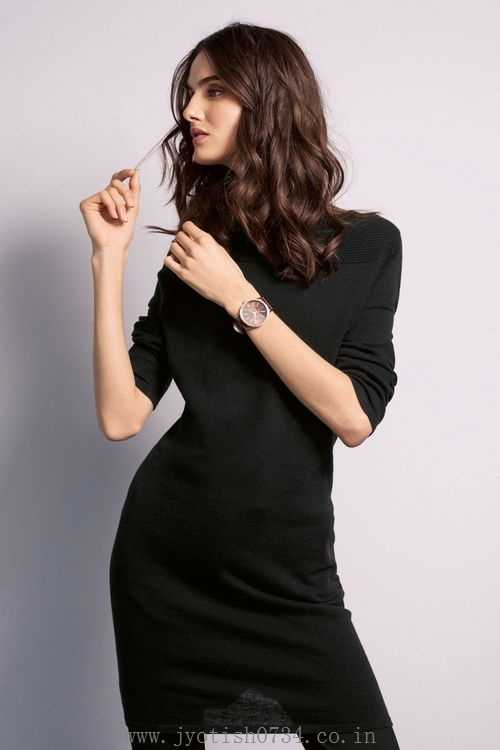S_dress: (103, 195, 413, 716)
